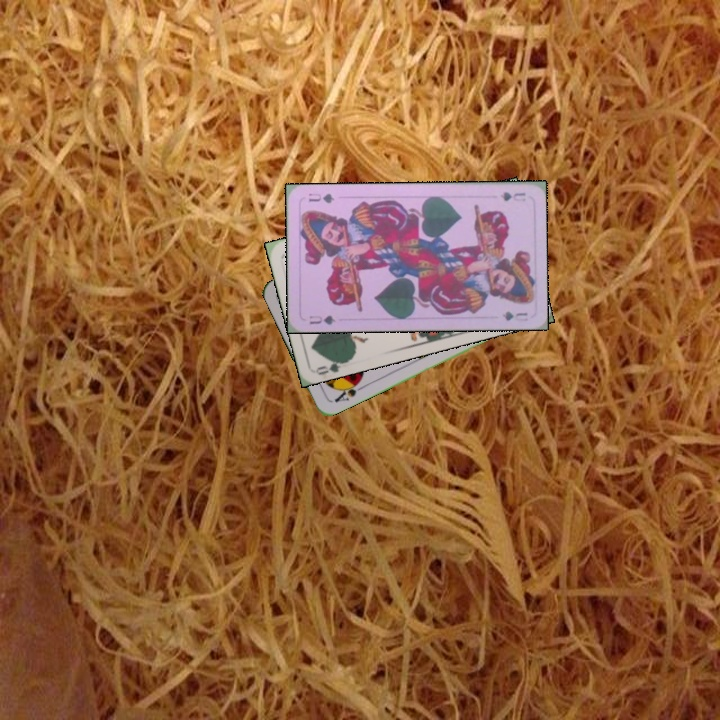GO: (313, 355, 352, 378)
GU: (305, 311, 338, 327), (496, 188, 528, 204)
SA: (330, 376, 367, 405)
